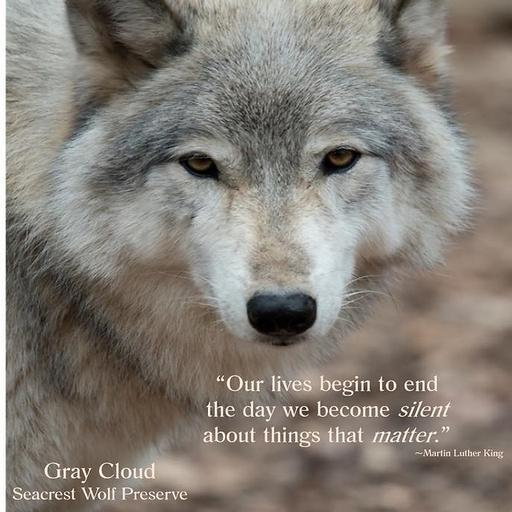Wolf: (3, 0, 481, 509)
